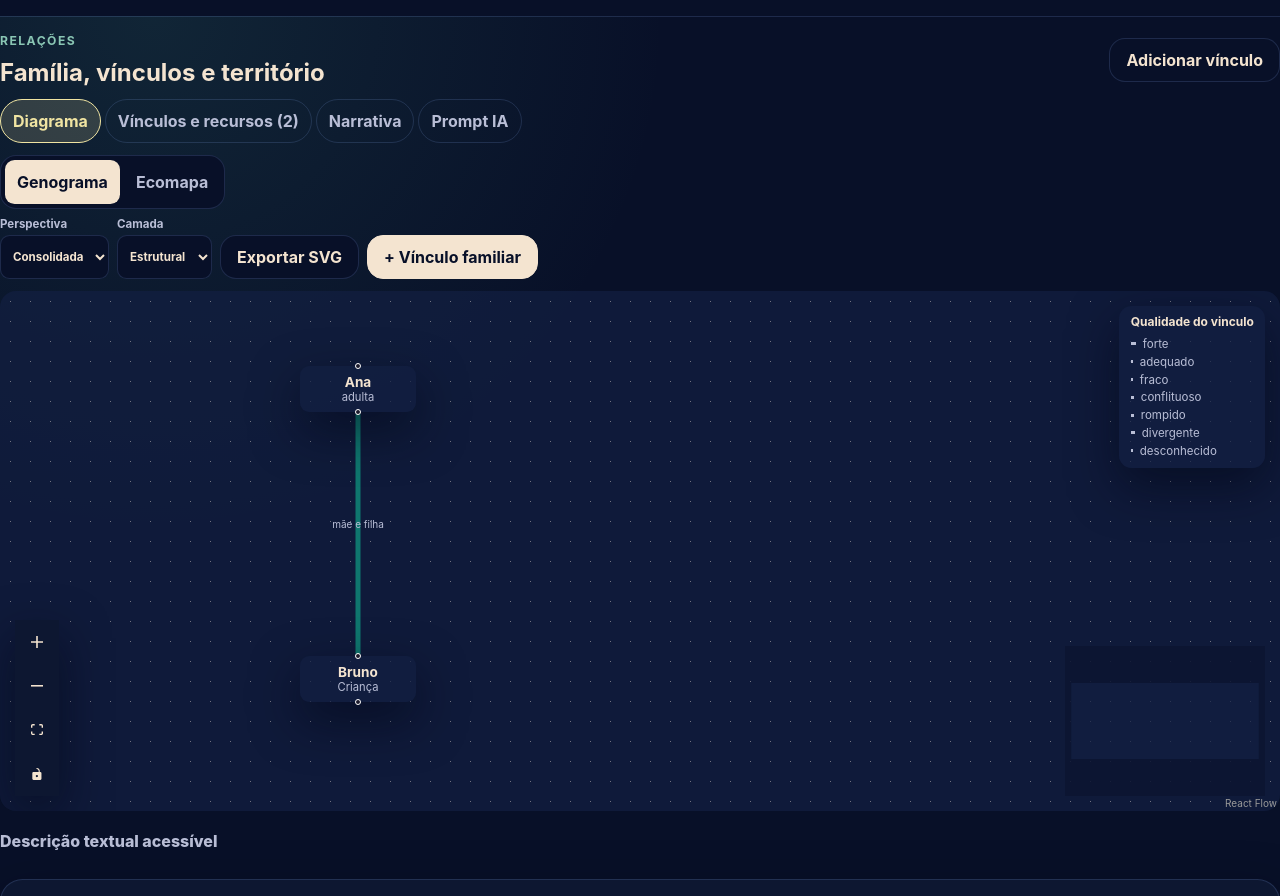
Test: painel de relacoes com camada React Flow › mantem a aba de prompt e a deteccao de identificadores
Expected: the text "Ana" is shown, [345,374,371,390]
Click the tab "Prompt IA" at (470, 121), box [418,99,522,143]
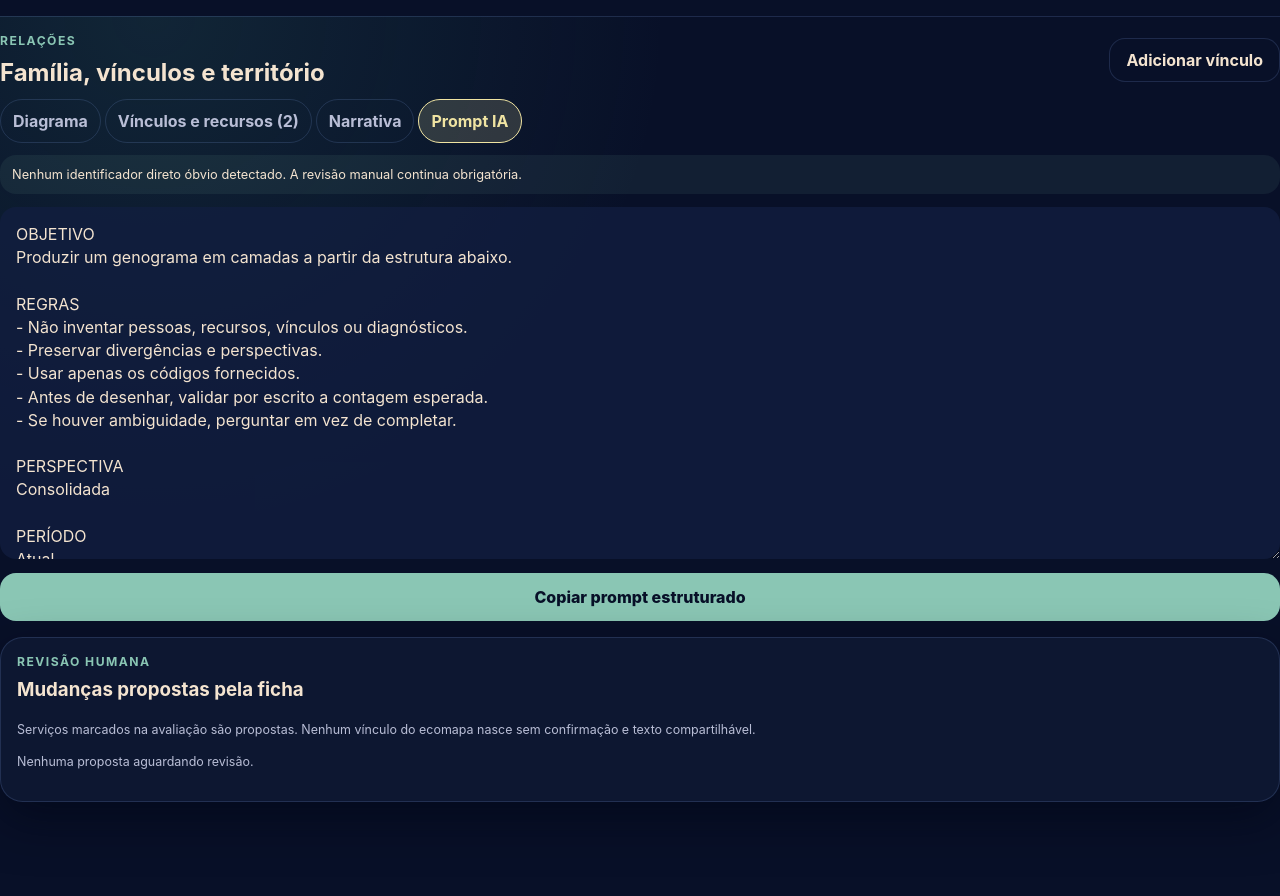
Expected: the text box is shown, [0,207,1279,559]
